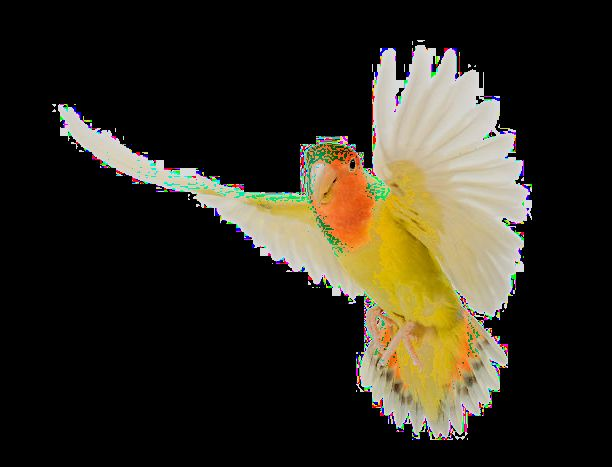Bird: (56, 41, 533, 438)
